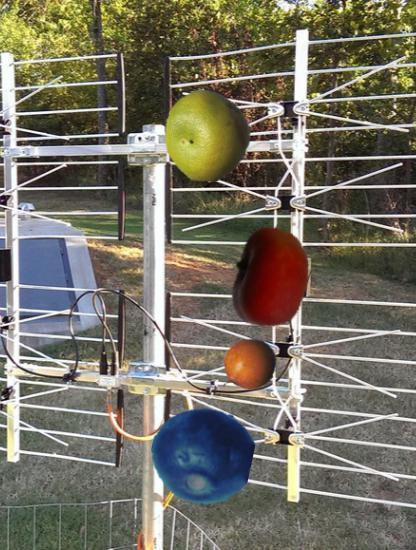Granadilla: (212, 335, 281, 404)
Huckleberry: (151, 405, 253, 507)
Nectarine: (220, 226, 323, 329)
Pomelo: (161, 89, 255, 183)
